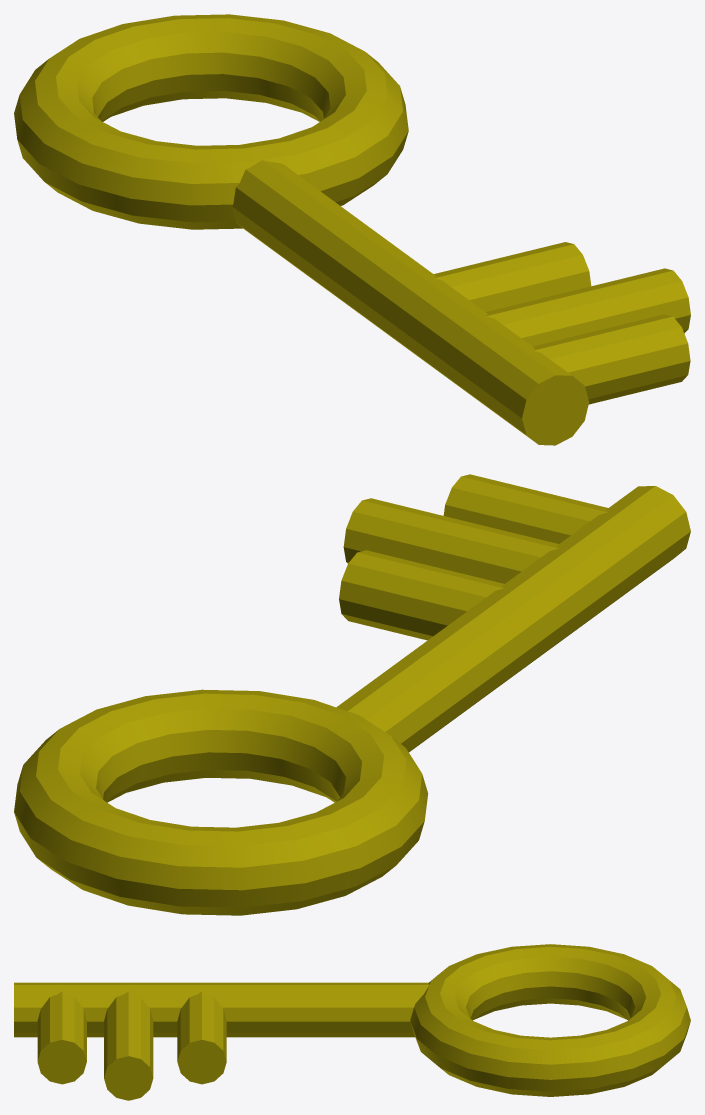
Rendered from key.fbx.
The picture shows the model from 3 angles, top to bottom: view 1: azimuth 30°, elevation 25°; view 2: azimuth 150°, elevation 25°; view 3: azimuth 270°, elevation 25°; orthographic projection. The views are drawn at different scales.
Visible parts, largest first — view 1: pTorus2; view 2: pTorus2; view 3: pTorus2.
Boxes of the visible parts, left/top/right/bottom form: pTorus2: left=14, top=14, right=690, bottom=445; pTorus2: left=14, top=474, right=690, bottom=915; pTorus2: left=14, top=944, right=690, bottom=1100.
Size of the model in its own units: 7.53 by 1.6 by 18.15.
